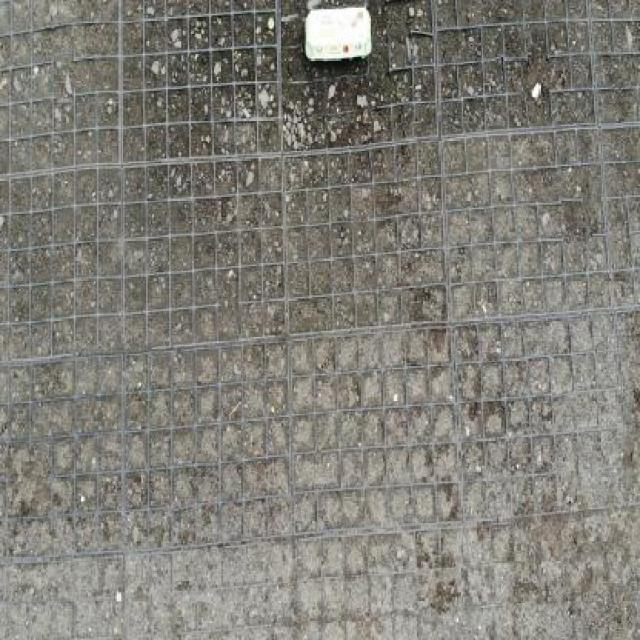Garbage: (305, 6, 374, 63), (269, 17, 273, 26)
